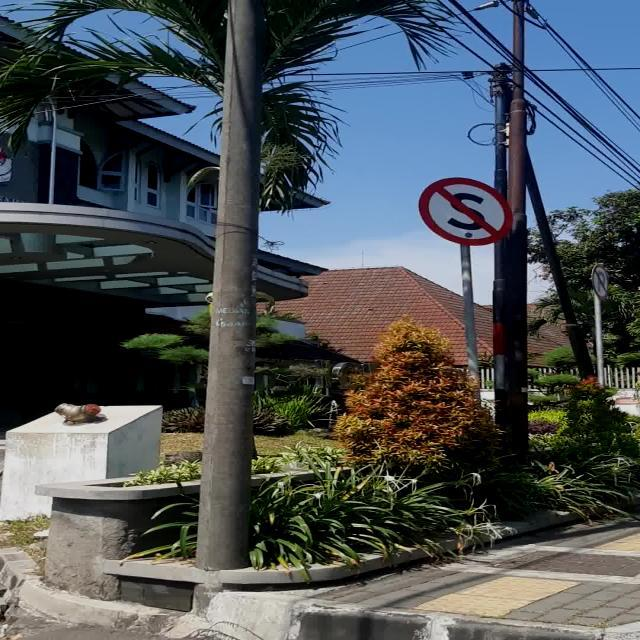Dilarang Berhenti: (420, 177, 512, 246)
